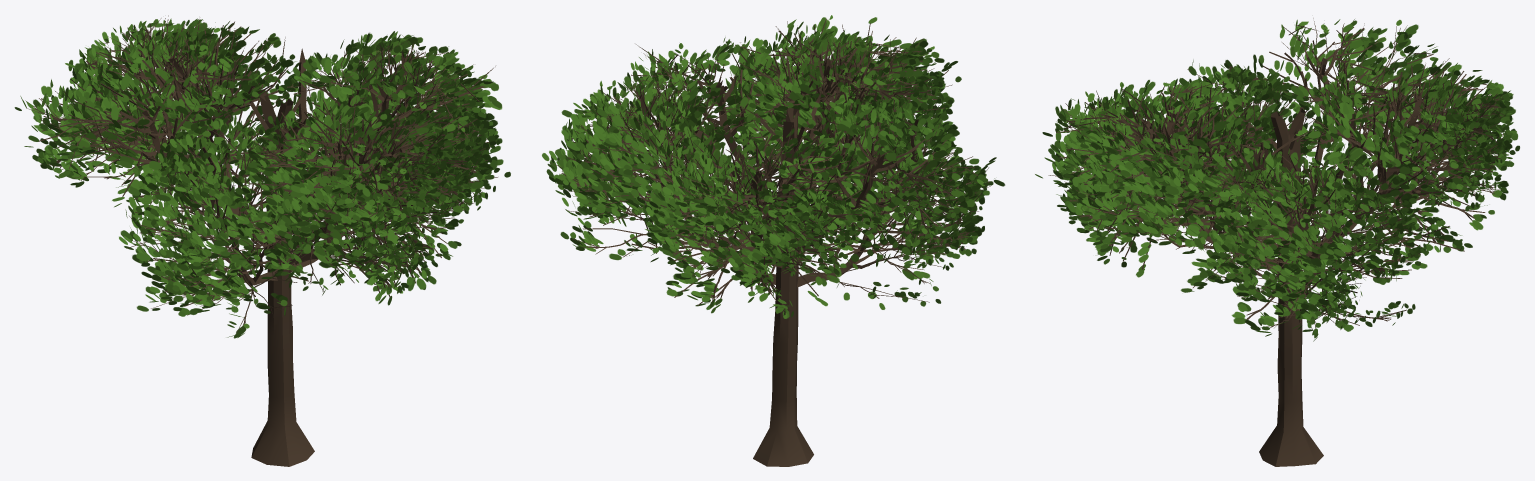
3 views of the same model, side by side, from view 1: azimuth 30°, elevation 25°; view 2: azimuth 150°, elevation 25°; view 3: azimuth 270°, elevation 25° (orthographic). The views are drawn at different scales.
Parts seen in each view (by area): view 1: oak 01.001_trunk_Mat.001_0.156; view 2: oak 01.001_trunk_Mat.001_0.156; view 3: oak 01.001_trunk_Mat.001_0.156.
Part boxes in pixels (<box>): oak 01.001_trunk_Mat.001_0.156: <box>14,15,510,466</box>; oak 01.001_trunk_Mat.001_0.156: <box>542,15,1005,466</box>; oak 01.001_trunk_Mat.001_0.156: <box>1035,18,1519,466</box>.
Size of the model in its own units: 5.23 by 4.14 by 5.07.
2 materials, 1 textured.
